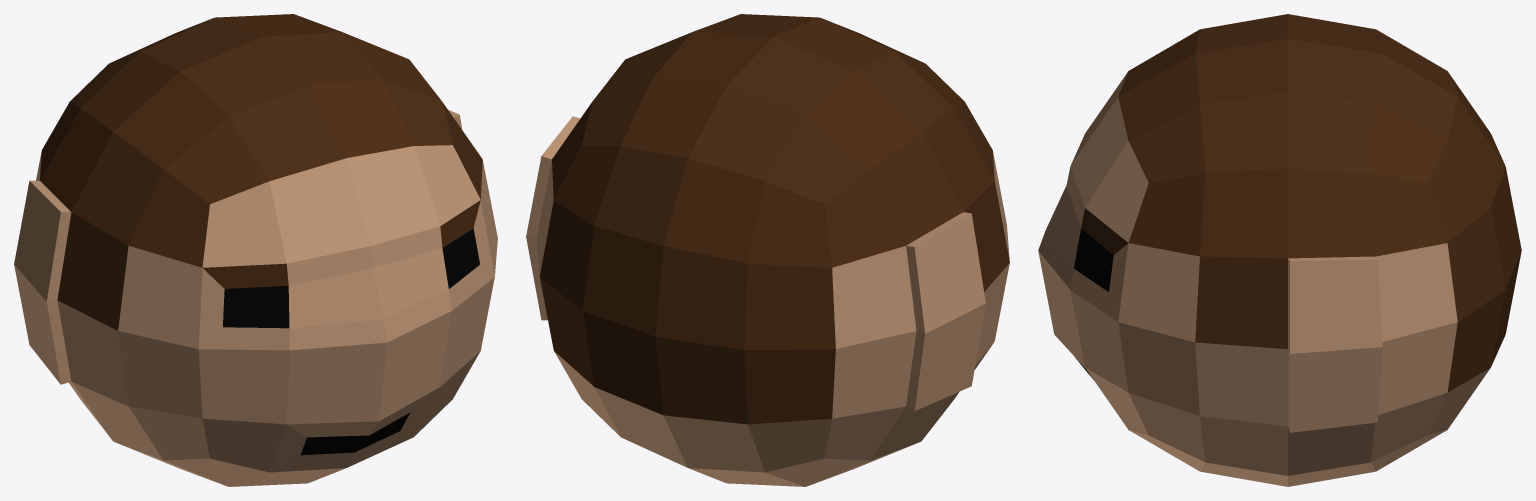
File: tobiascubehead.glb
The picture shows the model from 3 angles, left to right: view 1: azimuth 30°, elevation 25°; view 2: azimuth 150°, elevation 25°; view 3: azimuth 270°, elevation 25°; orthographic projection.
Parts seen in each view (by area): view 1: Cube; view 2: Cube; view 3: Cube.
Part boxes in pixels (box(x1,y1,x2,y2)): Cube: box(14, 14, 497, 486); Cube: box(526, 14, 1009, 486); Cube: box(1038, 14, 1521, 486).
Bounding box in the file's own units: 1.76 × 1.68 × 1.74.
